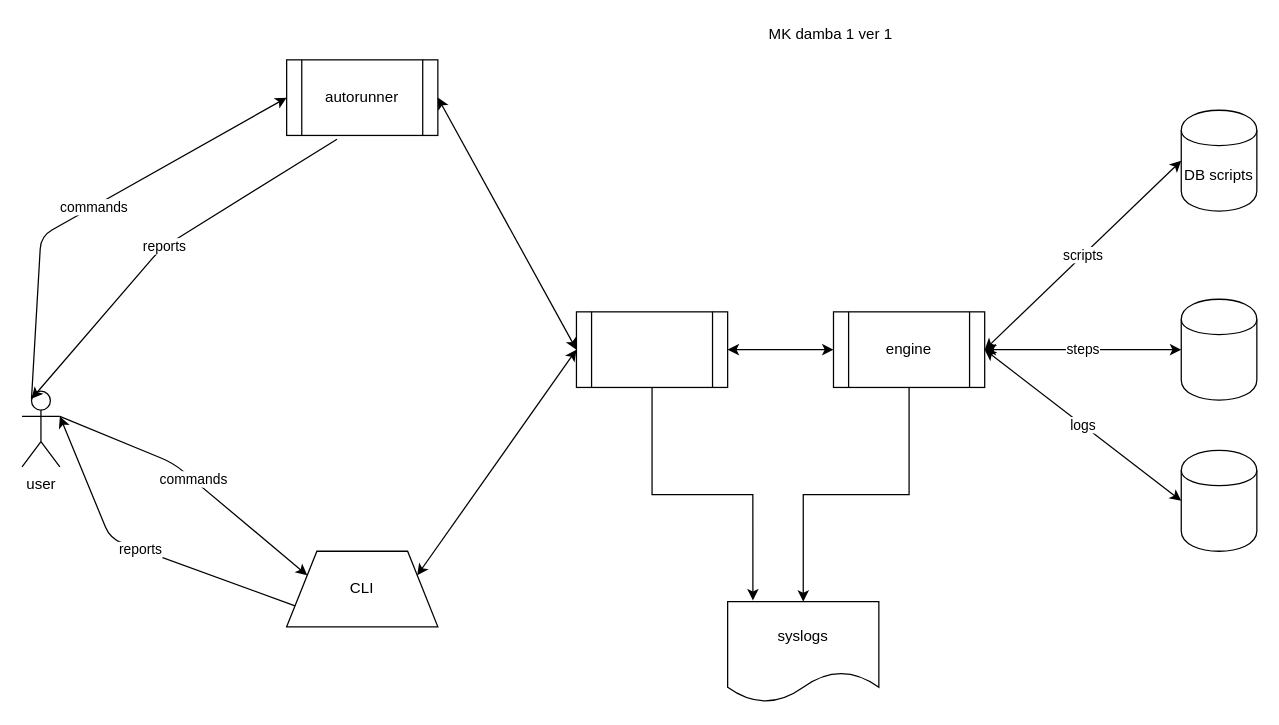
This 1279x725 diagram has some shape labels left out. Each missing label, with the box of its shape:
DB logs: (1180, 449, 1257, 551)
DB states: (1180, 298, 1257, 400)
tasker: (575, 311, 728, 387)
